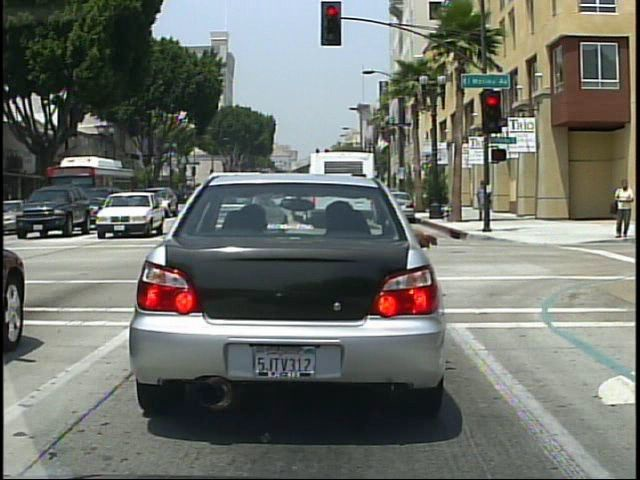person: (609, 178, 635, 241), (473, 178, 494, 224)
